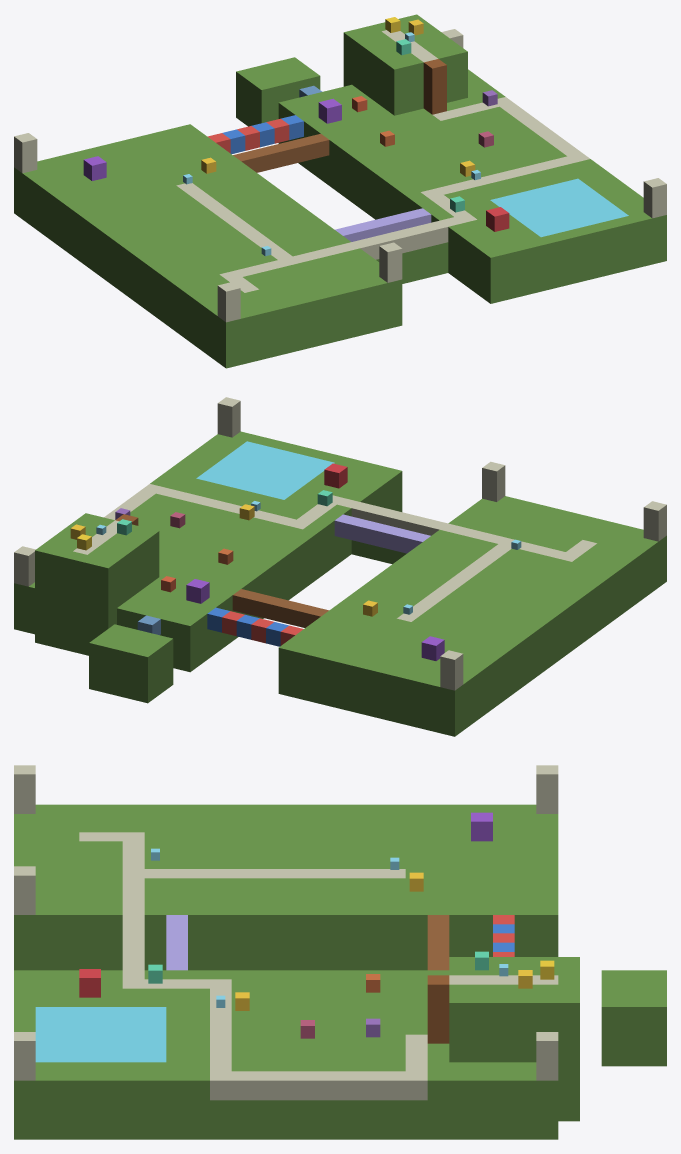
The model's file is course-2.obj.
The picture shows the model from 3 angles, top to bottom: view 1: azimuth 30°, elevation 25°; view 2: azimuth 150°, elevation 25°; view 3: azimuth 270°, elevation 25°; orthographic projection. The views are drawn at different scales.
Bounding box in the file's own units: 11 × 2.5 × 11.
1 material, 1 textured.
